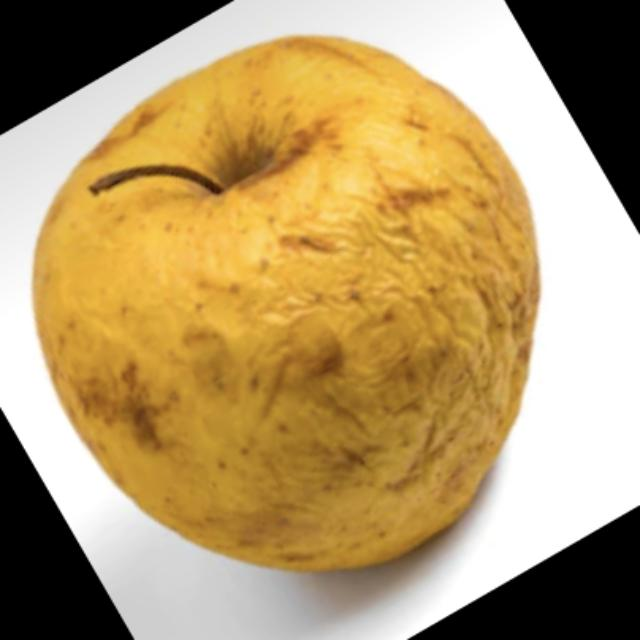Apel Tidak Segar: (17, 21, 569, 594)
